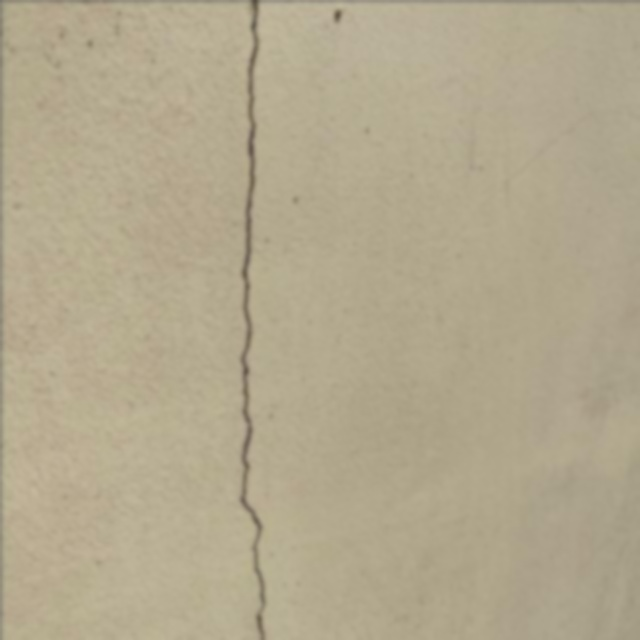SurfaceCrack: (192, 1, 314, 640)
